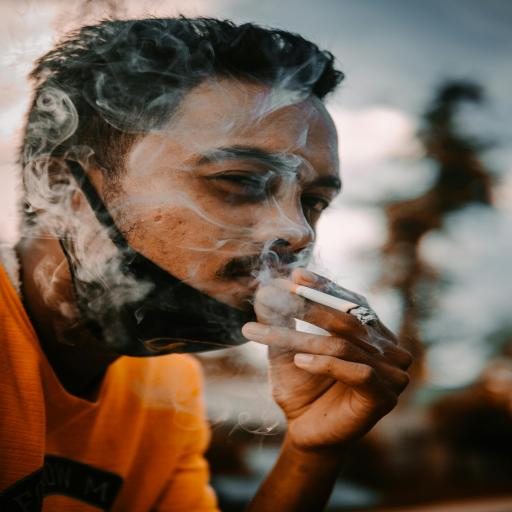merokok: (195, 209, 394, 381)
